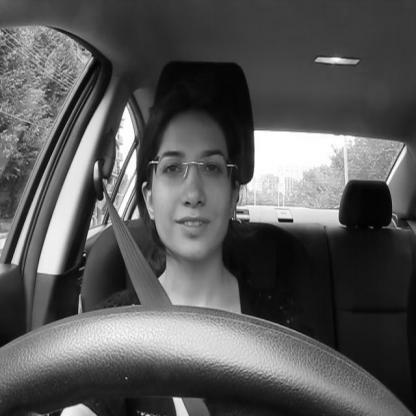seatbelt: (91, 56, 251, 416)
